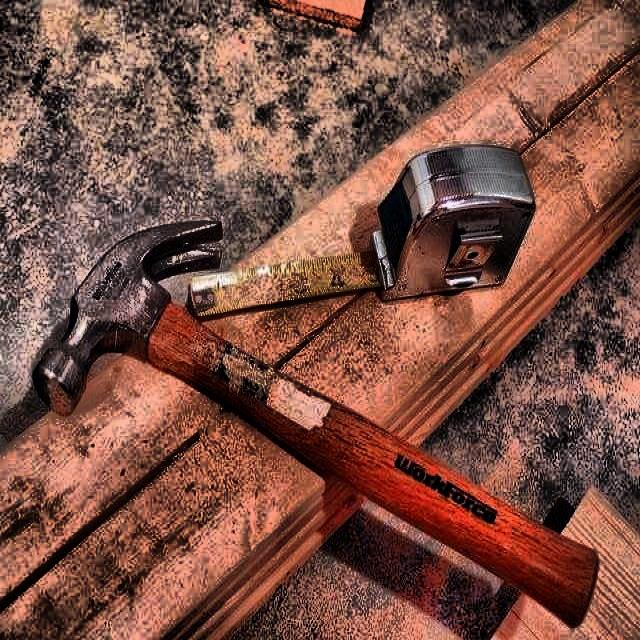hammer: (31, 219, 601, 627)
